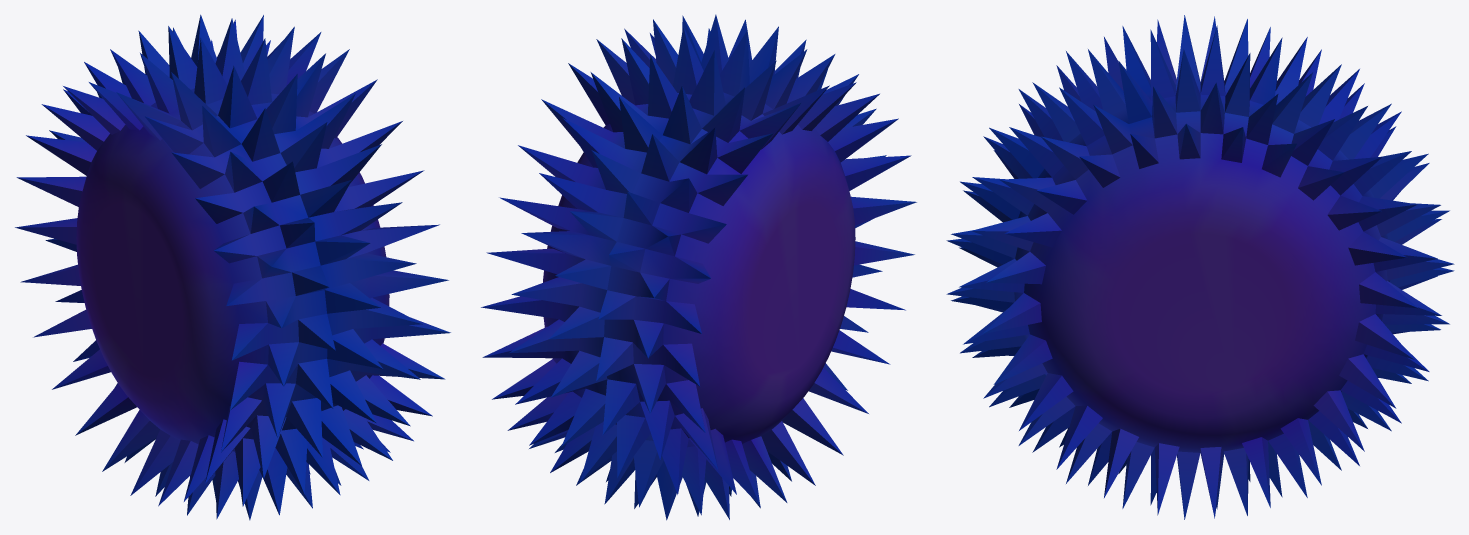
Rendered from RollingSpike.fbx.
3 renders of one model, left to right at view 1: azimuth 30°, elevation 25°; view 2: azimuth 150°, elevation 25°; view 3: azimuth 270°, elevation 25°, orthographic.
Parts seen in each view (by area): view 1: Torus.001; view 2: Torus.001; view 3: Torus.001.
Boxes of the visible parts, x1,y1,x2,y2 form: Torus.001: (15, 14, 450, 520); Torus.001: (481, 14, 916, 520); Torus.001: (946, 15, 1454, 519).
Size of the model in its own units: 93.04 by 186 by 186.
